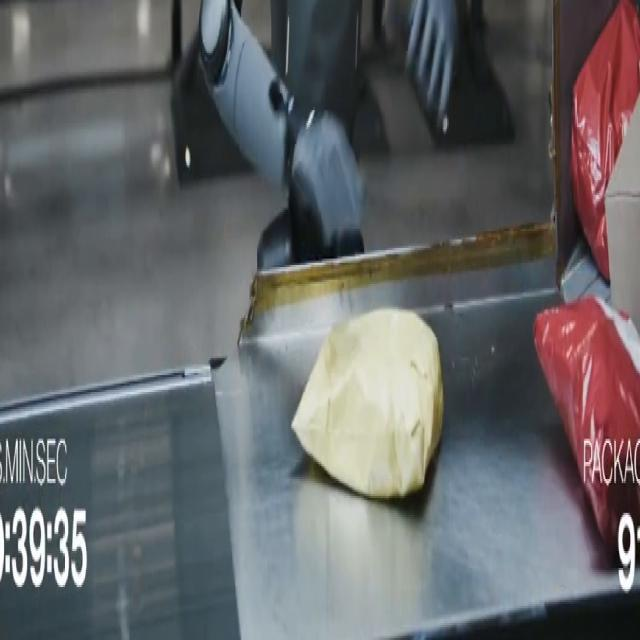package: (292, 310, 443, 498), (534, 297, 639, 553), (572, 0, 639, 281), (606, 102, 639, 326)
